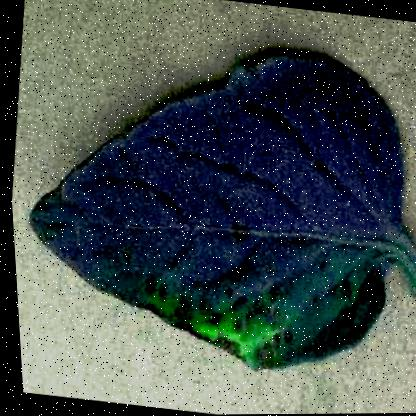BACTERIAL SPOT: (0, 13, 415, 393)
